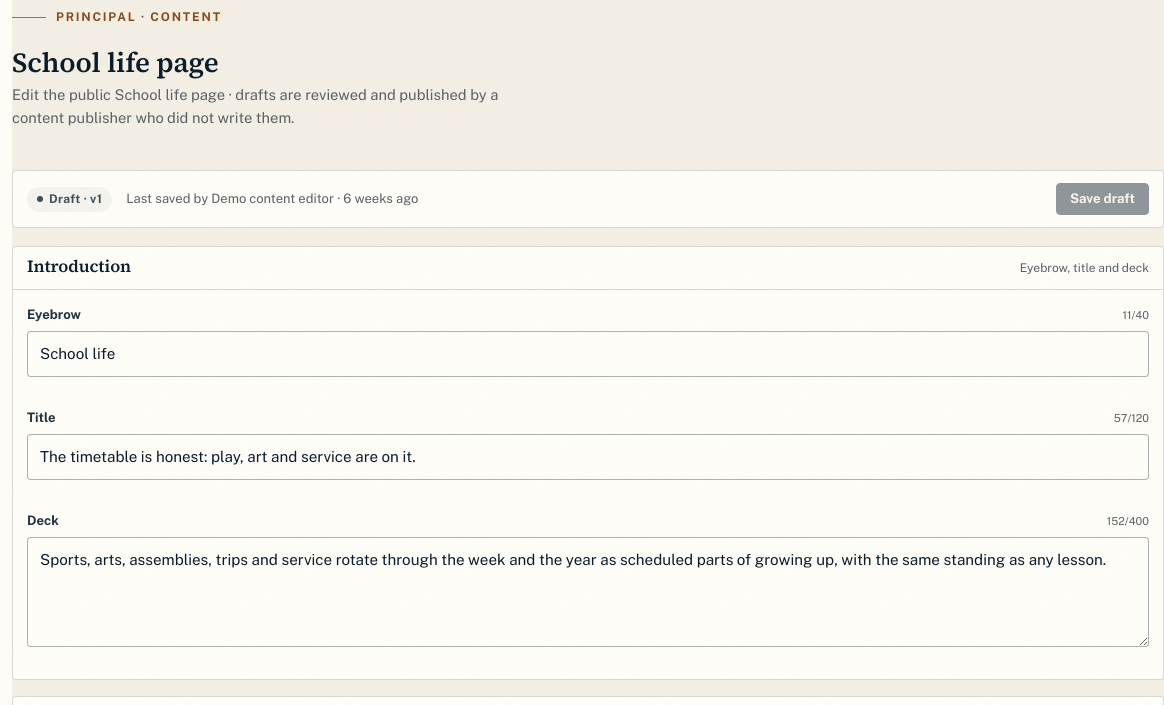
it: SchoolLifePageEditor › refuses to save while fields fail the schema
This screenshot has width=1164, height=705.
Expected: the heading "Introduction" is shown, [27,257,131,276]
Clear the field labelled "Title": x=588, y=457 [27,434,1149,480]
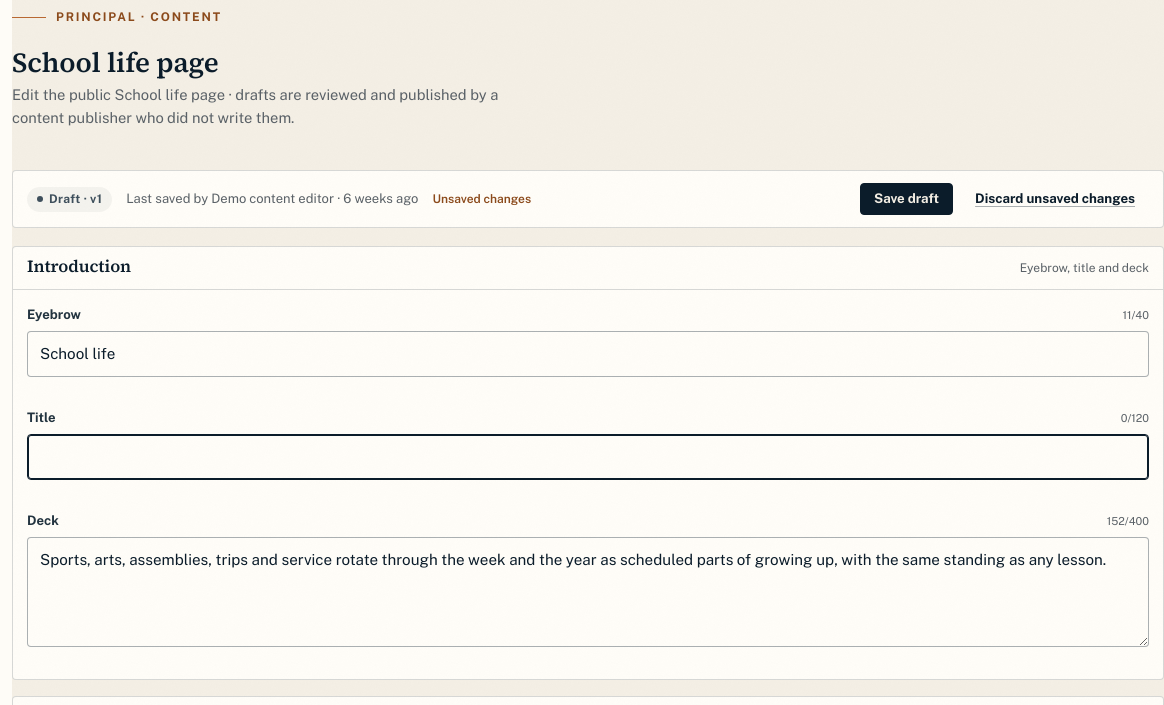
Click the button "Save draft": x=907, y=199 [860,184,953,215]
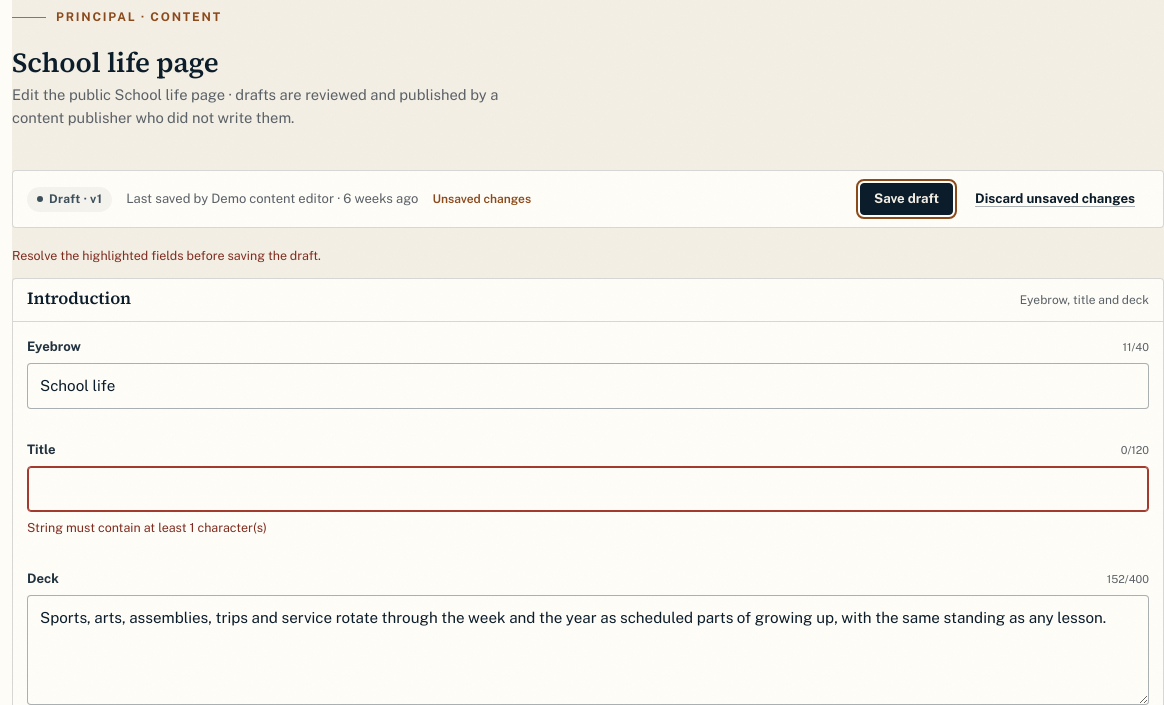
Now the text "Resolve the highlighted fields before saving the draft." is shown, box [12,248,321,263]
